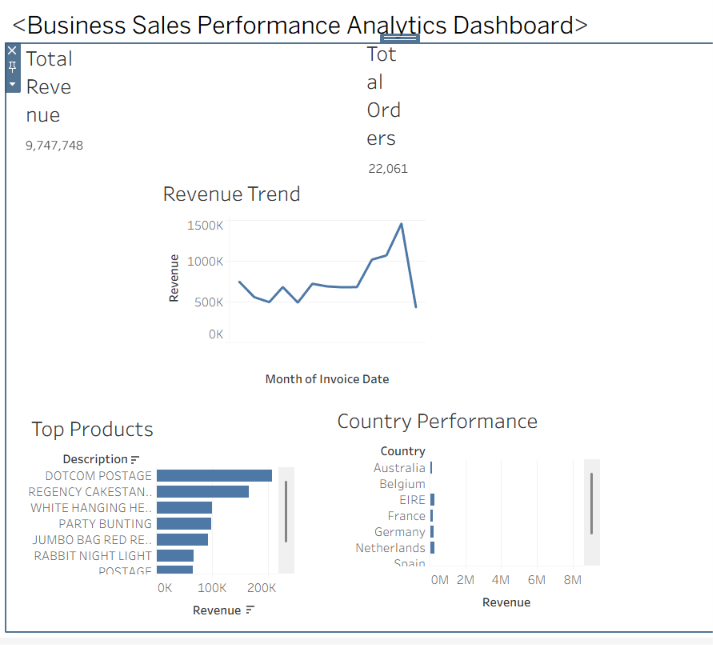

The dashboard page shown, as its layout file describes it:
{"tool":"tableau","page":{"name":"Dashboard 1","canvas":[1000,800],"ordinal":0},"visuals":[{"type":"title","box":[8,8,984,50]},{"type":"worksheet","title":"Total Orders","mark":"Automatic","box":[454,48,474,266]},{"type":"worksheet","title":"Total Revenue","mark":"Automatic","box":[28,54,363,215]},{"type":"worksheet","title":"Revenue Trend","mark":"Automatic","rows":["Calculation_1355448709550080"],"cols":["InvoiceDate"],"box":[199,223,333,271]},{"type":"worksheet","title":"Country Performance","mark":"Automatic","rows":["Country"],"cols":["Calculation_1355448709550080"],"box":[417,507,333,266]},{"type":"worksheet","title":"Top Products","mark":"Automatic","rows":["Description"],"cols":["Calculation_1355448709550080"],"box":[35,517,333,266]}]}

Visuals, with their boxes on the page's 1000x800 design canvas (x1, y1, x2, y2). These are canvas units, not pixel positions in the 713x645 screenshot, which may show the page scaled, cropped or inside an application window:
title: [8,8,992,58]
"Total Orders" worksheet: [454,48,928,314]
"Total Revenue" worksheet: [28,54,391,269]
"Revenue Trend" worksheet: [199,223,532,494]
"Country Performance" worksheet: [417,507,750,773]
"Top Products" worksheet: [35,517,368,783]
